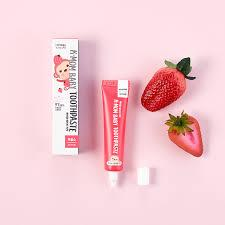toothpaste: (98, 77, 127, 191)
